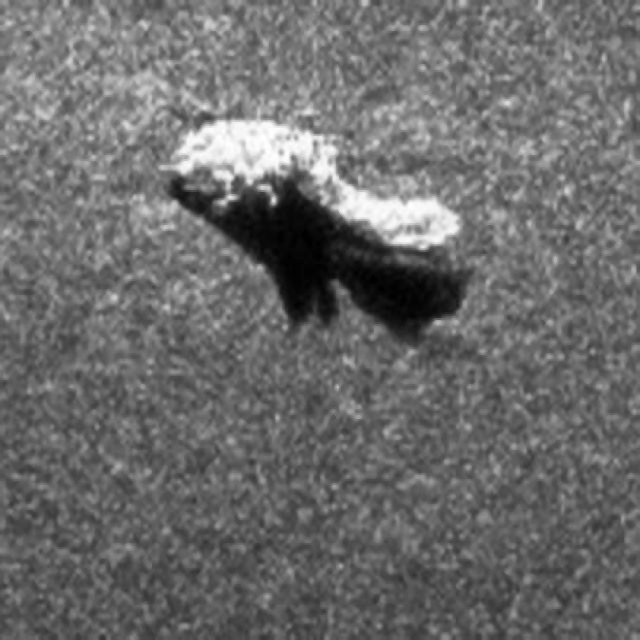Ship: (157, 94, 471, 332)
